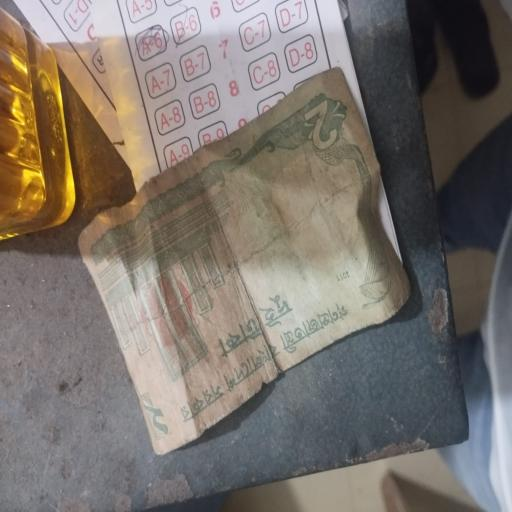2taka: (76, 67, 413, 459)
